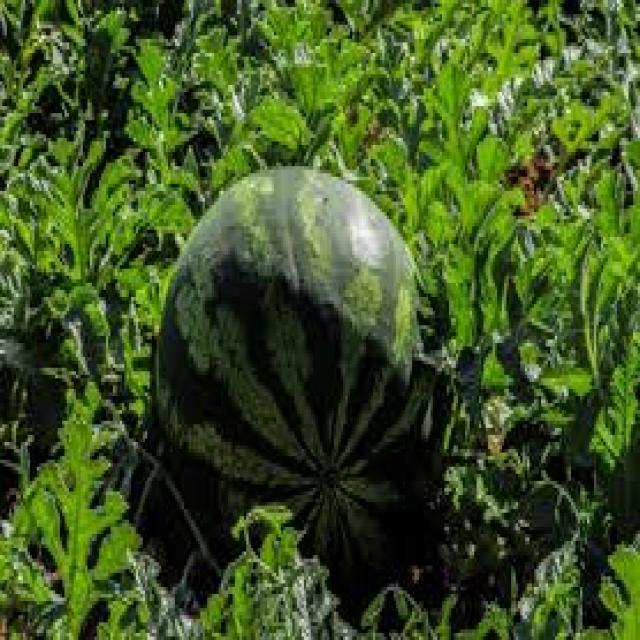organic waste: (0, 0, 637, 636), (143, 163, 437, 594)
